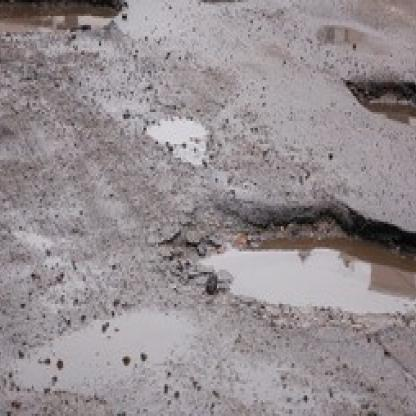pothole: (160, 192, 416, 322), (0, 0, 124, 37), (343, 76, 416, 133)
